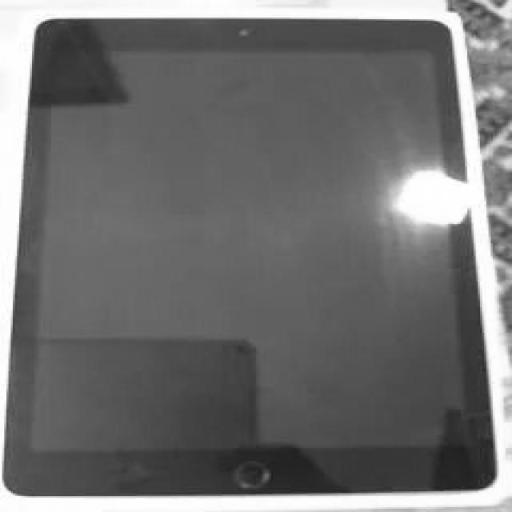phone: (0, 9, 508, 511)
